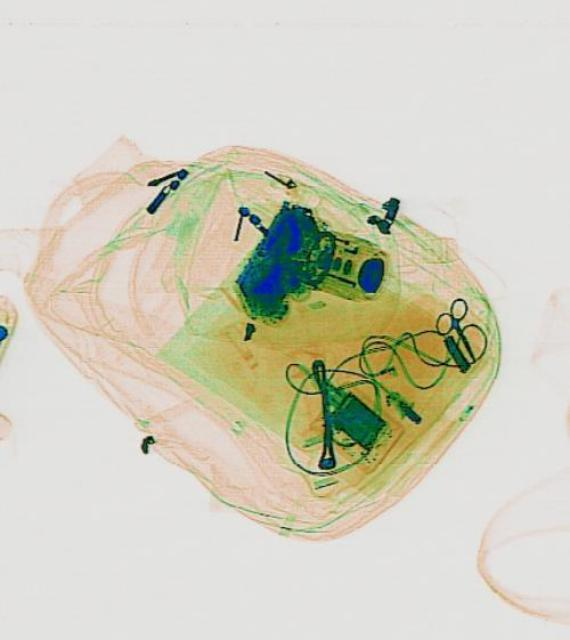Scissors: (425, 293, 490, 369)
